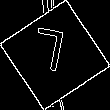L_S: (35, 27, 75, 83)
